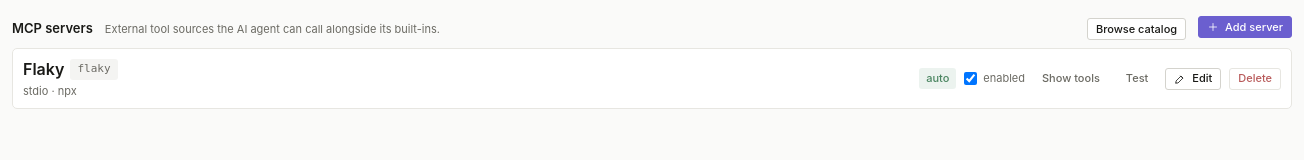
McpServersSection › surfaces a fetch error inline in the tools panel
The image size is (1304, 160).
Expected: the element with test id "mcp-row-flaky" is shown, [12,48,1292,109]
Click the button with test id "mcp-tools-toggle-flaky": (1071, 78) [1033,68,1109,90]
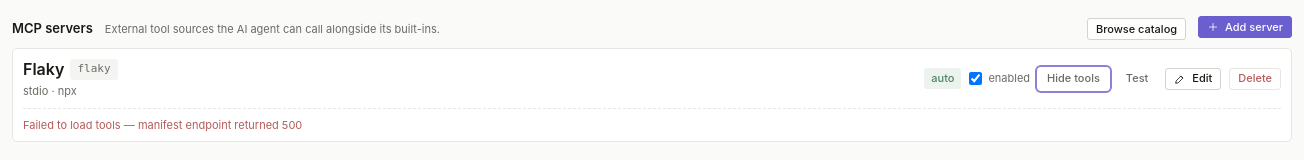
Expected: the element with test id "mcp-tools-list-flaky" shows "manifest endpoint returned 500", [138,118,302,132]
